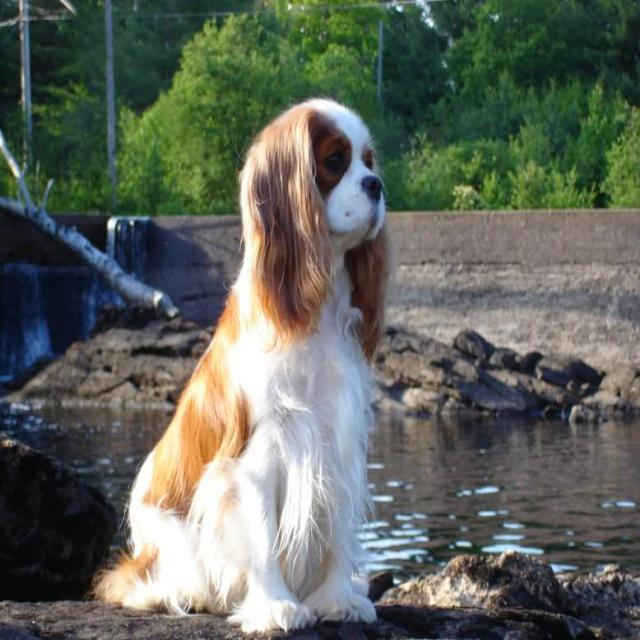blenheim_spaniel: (95, 91, 391, 637)
